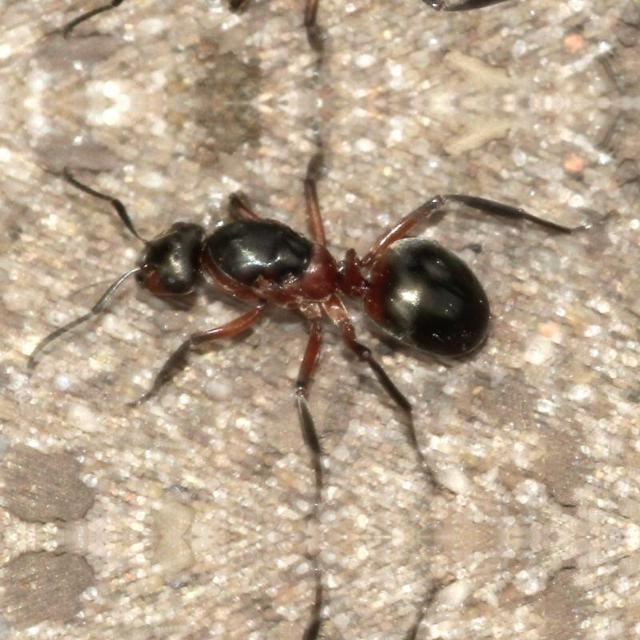Formica: (99, 158, 534, 406)
